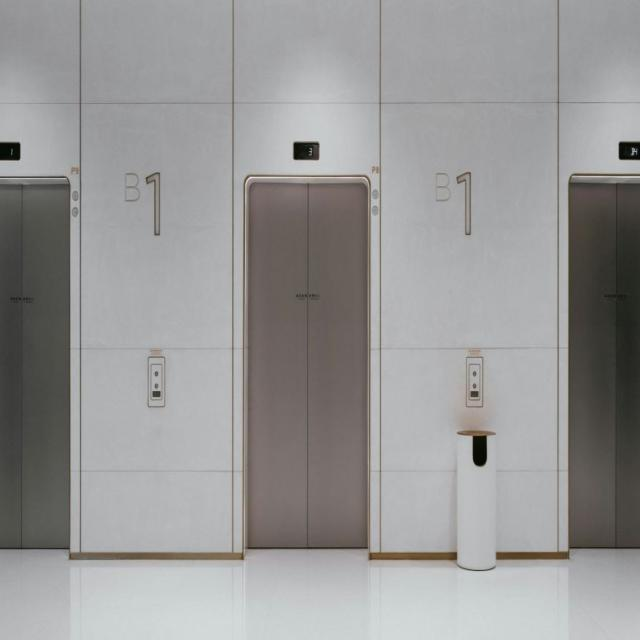elevator: (1, 136, 640, 574)
